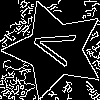V: (30, 25, 86, 70)
